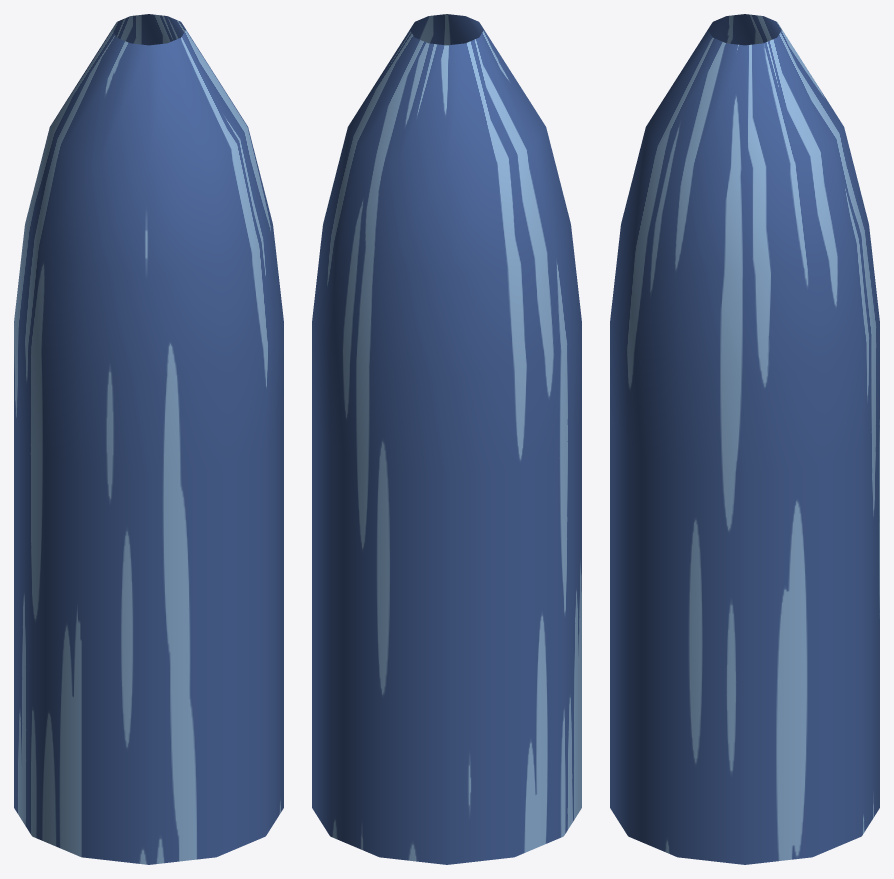
File: WaterTube_SM.FBX
The picture shows the model from 3 angles, left to right: view 1: azimuth 30°, elevation 25°; view 2: azimuth 150°, elevation 25°; view 3: azimuth 270°, elevation 25°; orthographic projection.
Visible parts, largest first — view 1: Cylinder001; view 2: Cylinder001; view 3: Cylinder001.
Part boxes in pixels (x1,y1,x2,y2): Cylinder001: (14,14,283,864); Cylinder001: (312,14,581,864); Cylinder001: (610,14,879,864).
Size of the model in its own units: 28.28 by 90 by 28.28.
1 material, 1 textured.
